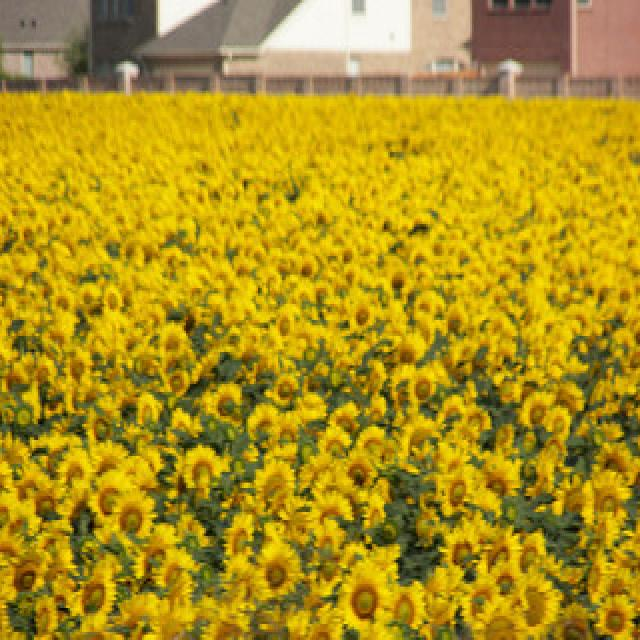sunflower: (255, 544, 304, 604), (74, 578, 119, 637), (344, 570, 390, 627), (598, 589, 640, 640), (519, 580, 561, 630), (92, 472, 134, 520), (8, 551, 50, 597), (478, 600, 525, 640), (181, 451, 221, 494), (436, 475, 473, 521), (212, 382, 248, 427), (117, 496, 152, 534), (407, 367, 439, 407), (341, 458, 375, 489), (66, 351, 92, 389), (273, 312, 297, 348), (522, 396, 548, 428), (272, 372, 298, 402), (349, 305, 374, 332), (103, 288, 123, 314)
